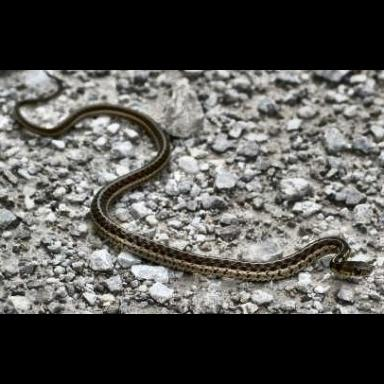snake: (7, 70, 384, 314)
